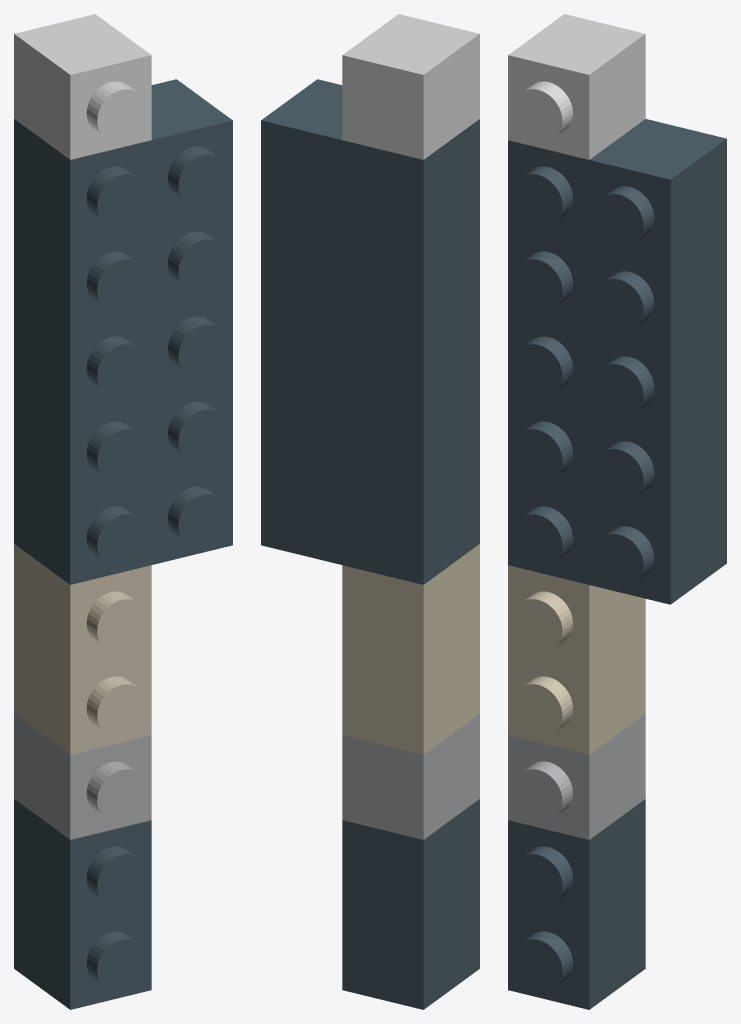
Rendered from current.glb.
3 views of the same model, side by side, from view 1: azimuth 30°, elevation 25°; view 2: azimuth 150°, elevation 25°; view 3: azimuth 330°, elevation 25° (orthographic).
Visible parts, largest first — view 1: world; view 2: world; view 3: world.
Part boxes in pixels (<box>): world: <box>14,14,232,1009</box>; world: <box>261,14,479,1009</box>; world: <box>508,14,726,1009</box>.
Bounding box in the file's own units: 16 × 88 × 11.4.
